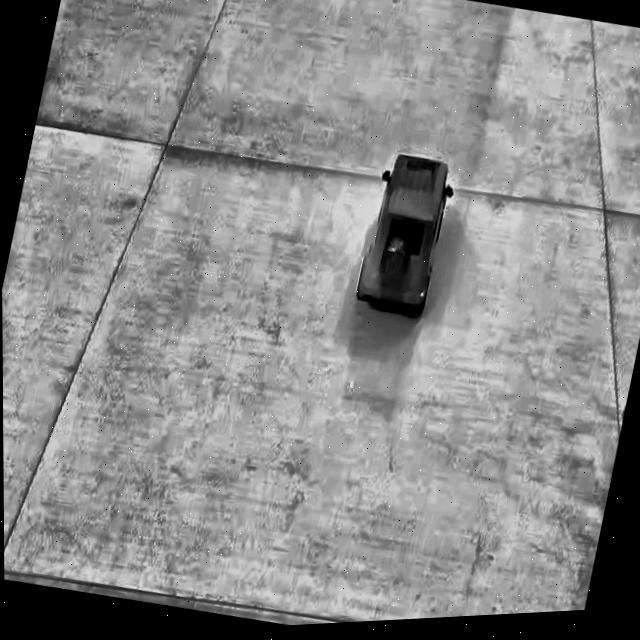light_vehicle: (342, 136, 466, 326)
